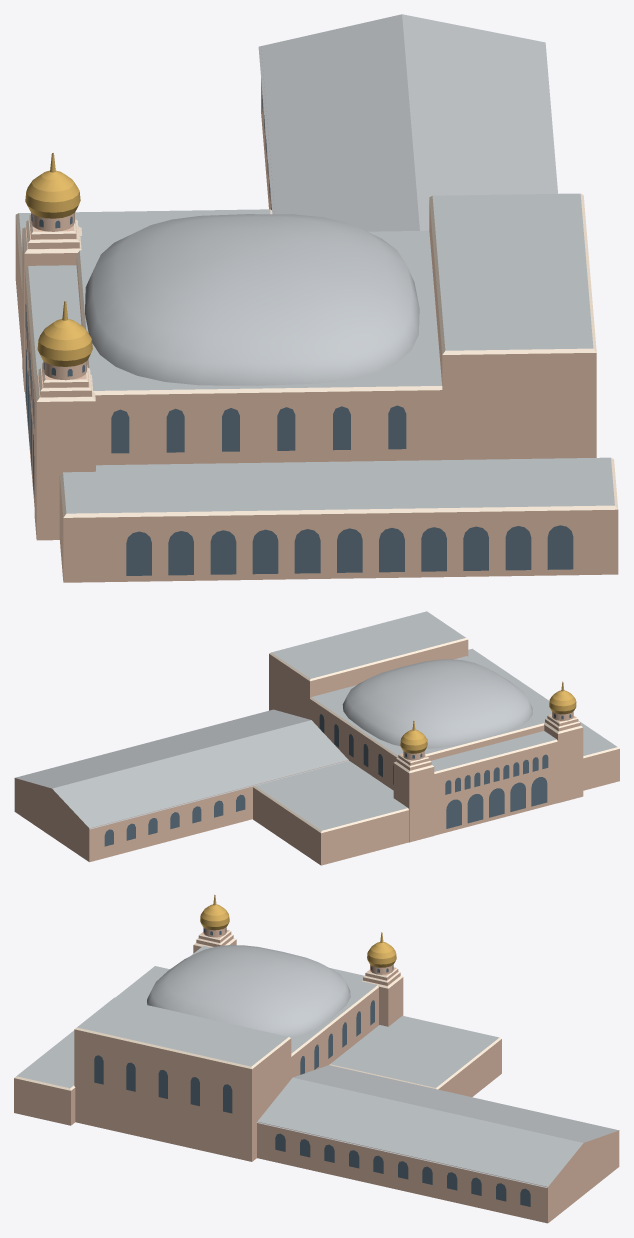
The model's file is detail.glb.
The picture shows the model from 3 angles, top to bottom: view 1: azimuth 30°, elevation 25°; view 2: azimuth 150°, elevation 25°; view 3: azimuth 270°, elevation 25°; orthographic projection. The views are drawn at different scales.
Visible parts, largest first — view 1: shrine-auditorium; view 2: shrine-auditorium; view 3: shrine-auditorium.
Part boxes in pixels (x1,y1,x2,y2): shrine-auditorium: (15, 14, 618, 582); shrine-auditorium: (14, 611, 619, 865); shrine-auditorium: (14, 895, 619, 1223).
Size of the model in its own units: 152 by 38.8 by 175.
